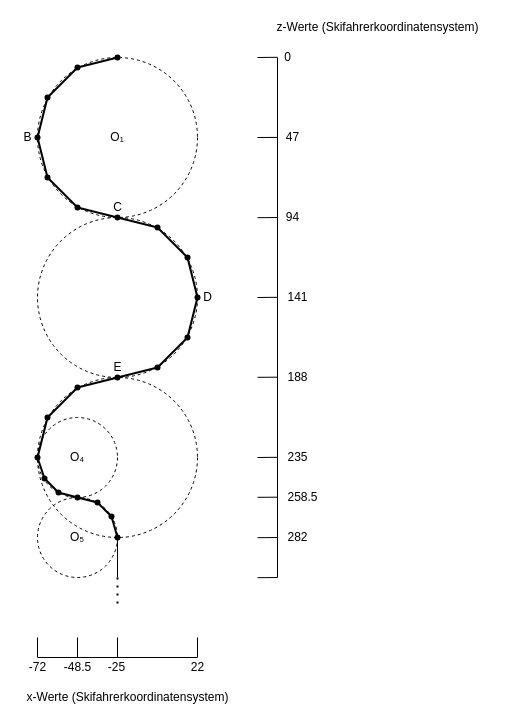
Image size: 505x724. Some labels were removed from this diagram. Each missing label, with the box of its shape:
O₂: (36, 216, 198, 378)
O₃: (36, 376, 198, 538)
START (A): (96, 36, 138, 78)
